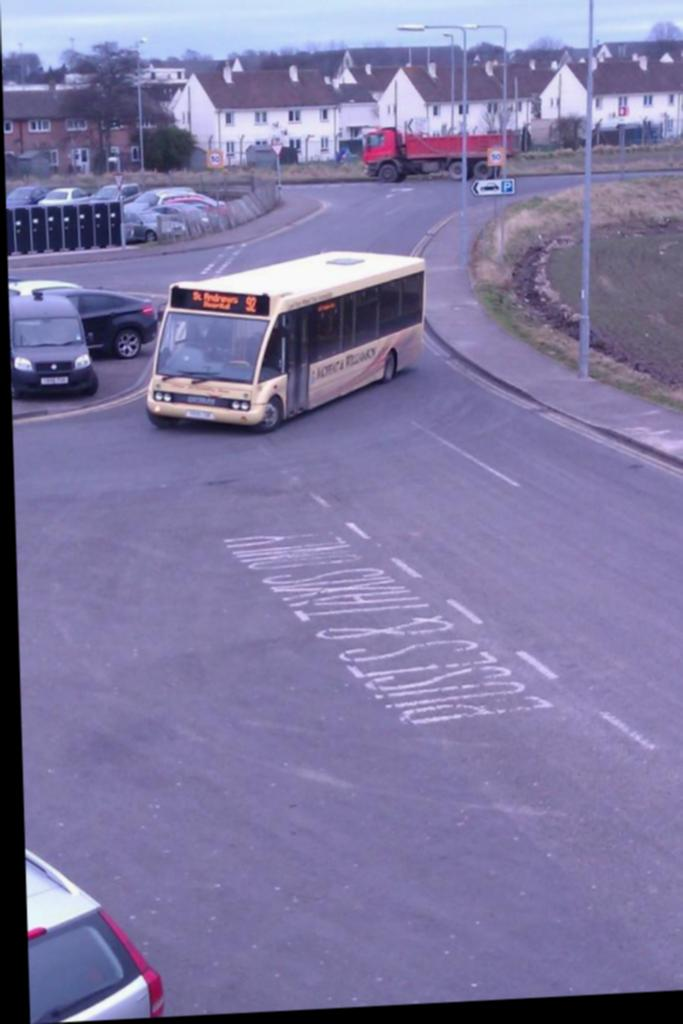License_Plate: (181, 410, 215, 420), (40, 373, 69, 383)
